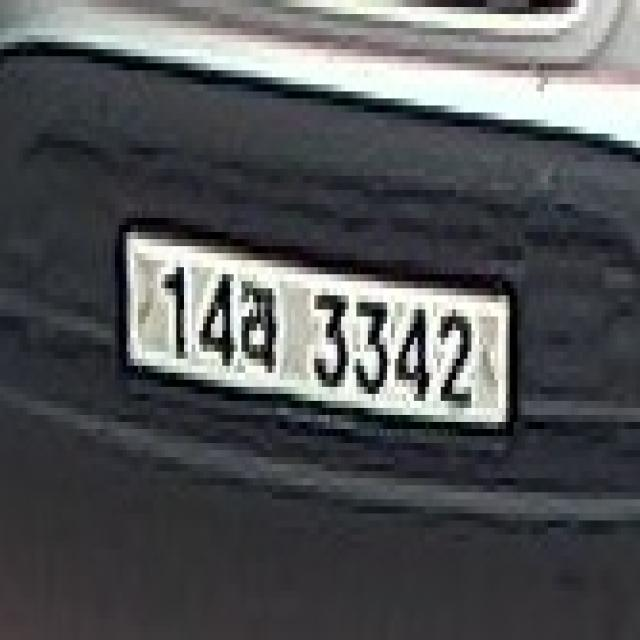1: (157, 253, 196, 380)
2: (433, 302, 479, 415)
3: (348, 295, 394, 408), (310, 281, 349, 401)
4: (195, 267, 238, 394), (395, 295, 433, 408)
la: (234, 274, 287, 387)
license_plate: (115, 211, 521, 464)
